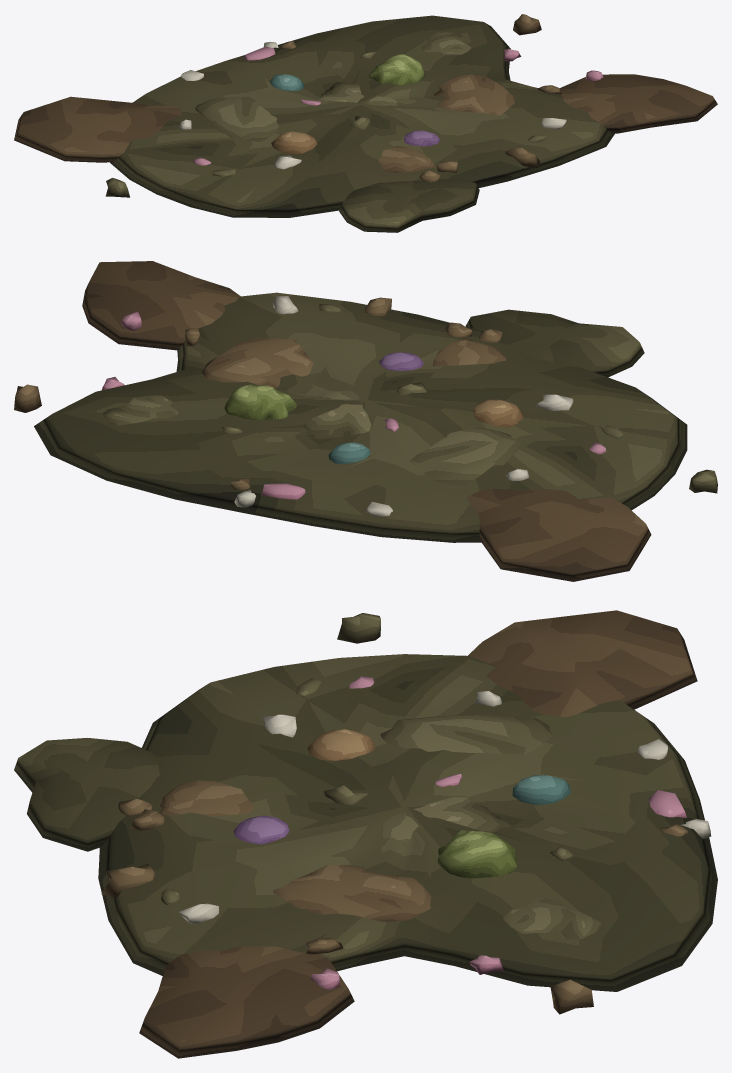
The picture shows the model from 3 angles, top to bottom: view 1: azimuth 30°, elevation 25°; view 2: azimuth 150°, elevation 25°; view 3: azimuth 270°, elevation 25°; orthographic projection. The views are drawn at different scales.
Visible parts, largest first — view 1: coral; view 2: coral; view 3: coral.
Boxes of the visible parts, bbox=[...] form: coral: bbox=[14, 14, 717, 232]; coral: bbox=[14, 261, 717, 581]; coral: bbox=[14, 610, 717, 1058].
Bounding box in the file's own units: 8.35 × 0.4548 × 5.67.
1 material, 1 textured.
